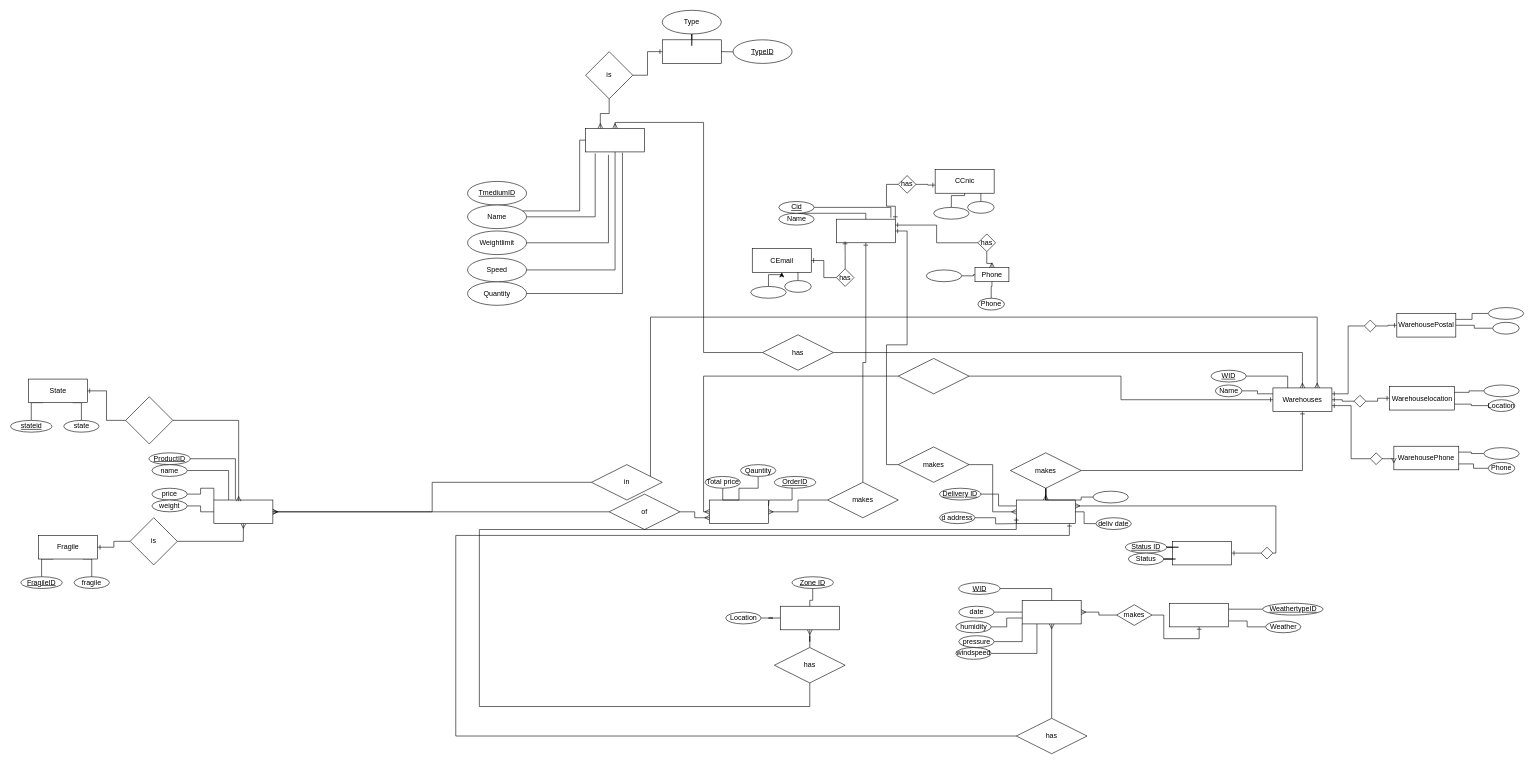
This 1534x764 diagram has some shape labels left out. Each missing label, with the box of its shape:
Cnic: (967, 201, 994, 213)
CnicID: (933, 207, 969, 219)
Customers: (836, 219, 895, 243)
d time: (1092, 491, 1128, 503)
Delivery: (1016, 499, 1075, 524)
Deliverystatus: (1172, 541, 1232, 565)
Email: (784, 280, 811, 292)
EmailID: (750, 286, 786, 298)
is of: (125, 396, 173, 444)
LocationID: (1483, 384, 1519, 397)
MediumType: (662, 39, 721, 63)
Orders: (709, 499, 768, 524)
PhoneID: (926, 269, 962, 282)
Postal: (1492, 322, 1519, 334)
Postalid: (1488, 307, 1524, 319)
Products: (213, 499, 273, 524)
punched: (898, 358, 969, 394)
R-Zones: (780, 606, 839, 630)
Tmedium: (585, 128, 645, 152)
Weather Data: (1022, 600, 1081, 624)
Weather Type: (1169, 603, 1229, 627)
WphoneID: (1483, 447, 1519, 459)
